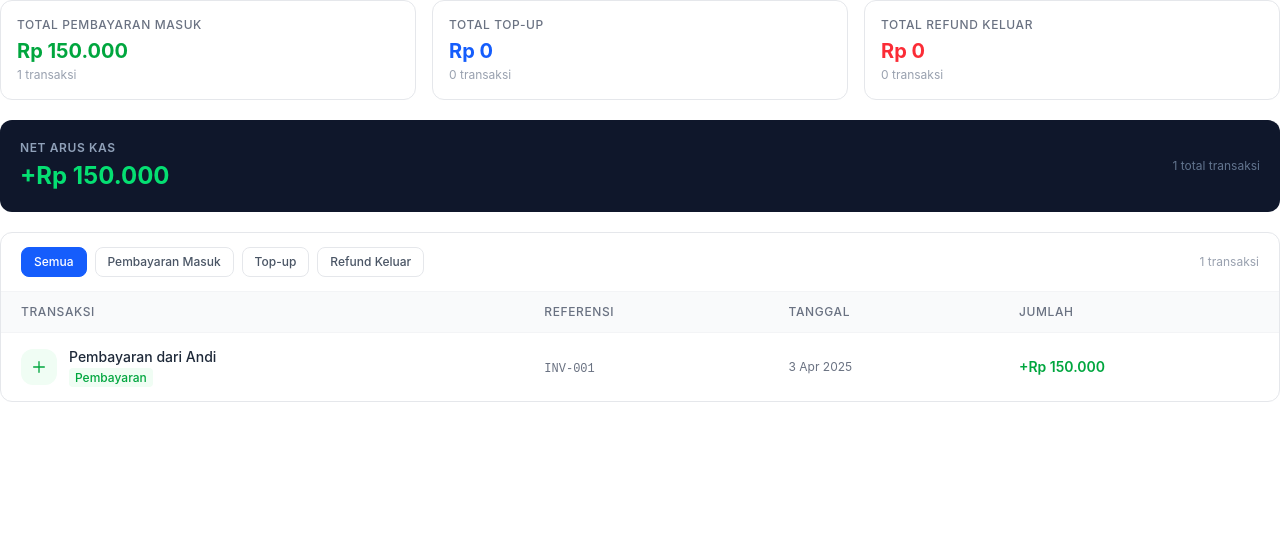
it: TransactionHistoryPage › shows empty state when filter has no results
Click the button "Refund Keluar".
click(371, 262)  # box x1=317 y1=247 x2=424 y2=277
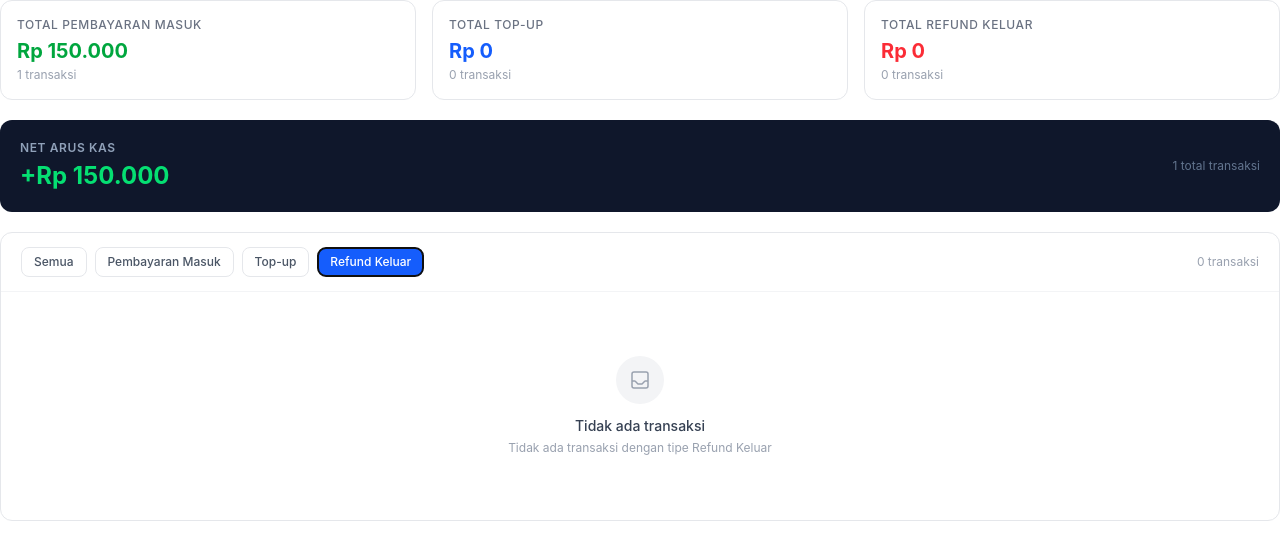
Now the text "Tidak ada transaksi" is shown, box x1=575 y1=417 x2=705 y2=434
